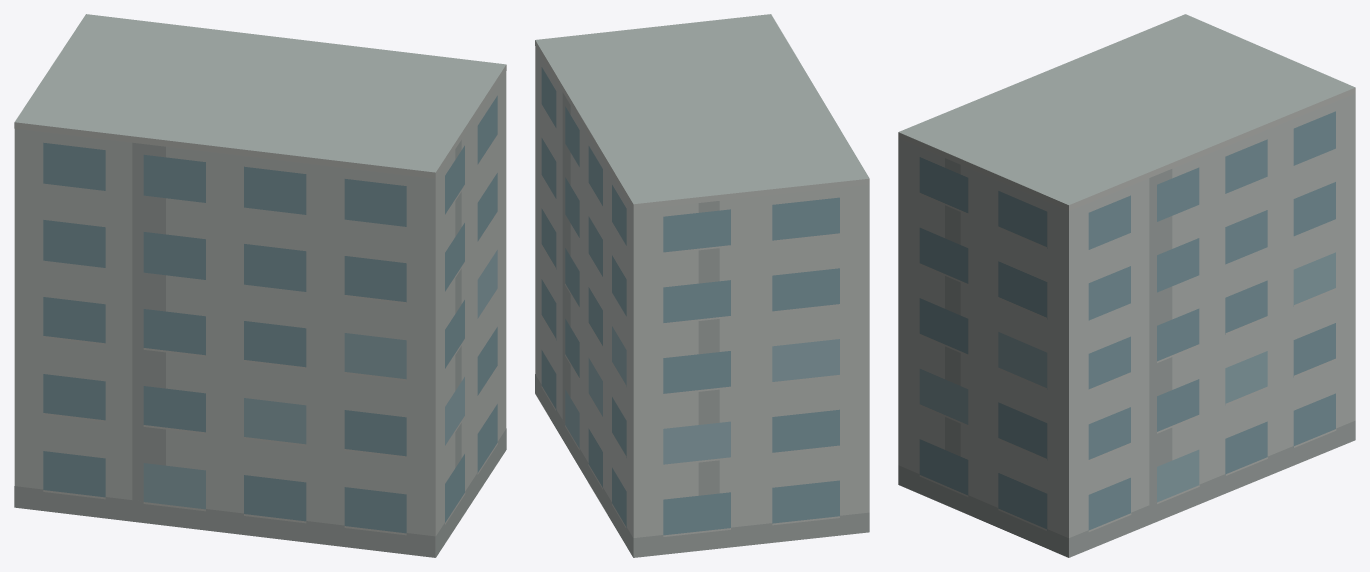
The model's file is survey-upis-33001588.glb.
3 views of the same model, side by side, from view 1: azimuth 30°, elevation 25°; view 2: azimuth 150°, elevation 25°; view 3: azimuth 270°, elevation 25° (orthographic). The views are drawn at different scales.
Visible parts, largest first — view 1: survey-upis-33001588.tmp; view 2: survey-upis-33001588.tmp; view 3: survey-upis-33001588.tmp.
Part boxes in pixels (<box>): survey-upis-33001588.tmp: <box>14,14,506,557</box>; survey-upis-33001588.tmp: <box>535,14,869,557</box>; survey-upis-33001588.tmp: <box>898,14,1355,557</box>.
Size of the model in its own units: 16.99 by 14.6 by 17.17.
